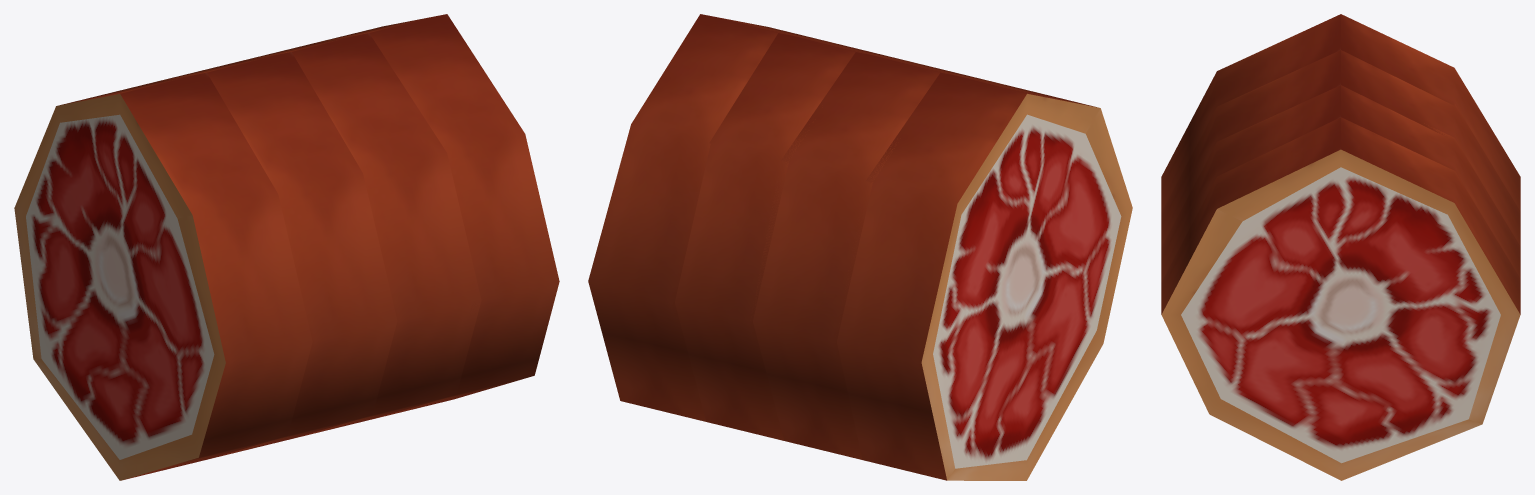
Rendered from Meet_slice.fbx.
3 renders of one model, left to right at view 1: azimuth 30°, elevation 25°; view 2: azimuth 150°, elevation 25°; view 3: azimuth 270°, elevation 25°, orthographic. The views are drawn at different scales.
Visible parts, largest first — view 1: Meet_01, Meet_02, Meet_03, Meet_04; view 2: Meet_01, Meet_02, Meet_04, Meet_03; view 3: Meet_04, Meet_01, Meet_02, Meet_03.
Part boxes in pixels (x1,y1,x2,y2): Meet_01: [14, 72, 312, 480]; Meet_02: [152, 52, 397, 458]; Meet_03: [236, 33, 481, 438]; Meet_04: [307, 14, 559, 419]; Meet_01: [837, 72, 1132, 480]; Meet_02: [750, 52, 1010, 459]; Meet_04: [588, 14, 842, 421]; Meet_03: [668, 33, 927, 440]; Meet_04: [1161, 117, 1520, 480]; Meet_01: [1161, 14, 1520, 212]; Meet_02: [1161, 50, 1520, 247]; Meet_03: [1161, 85, 1520, 282].
Bounding box in the file's own units: 33.88 × 36.84 × 36.46.
